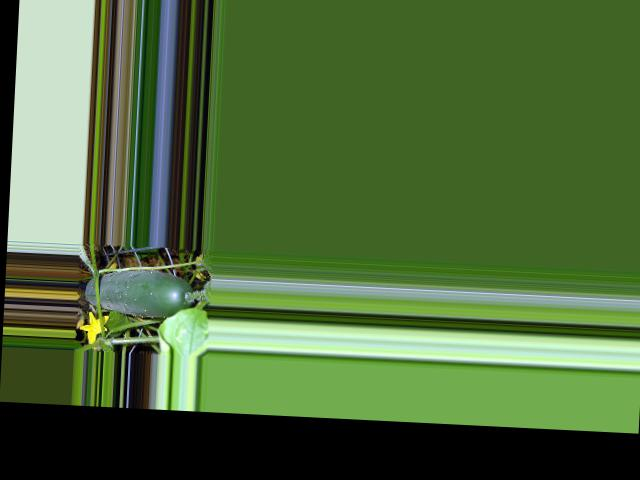cucumber: (85, 267, 196, 319)
